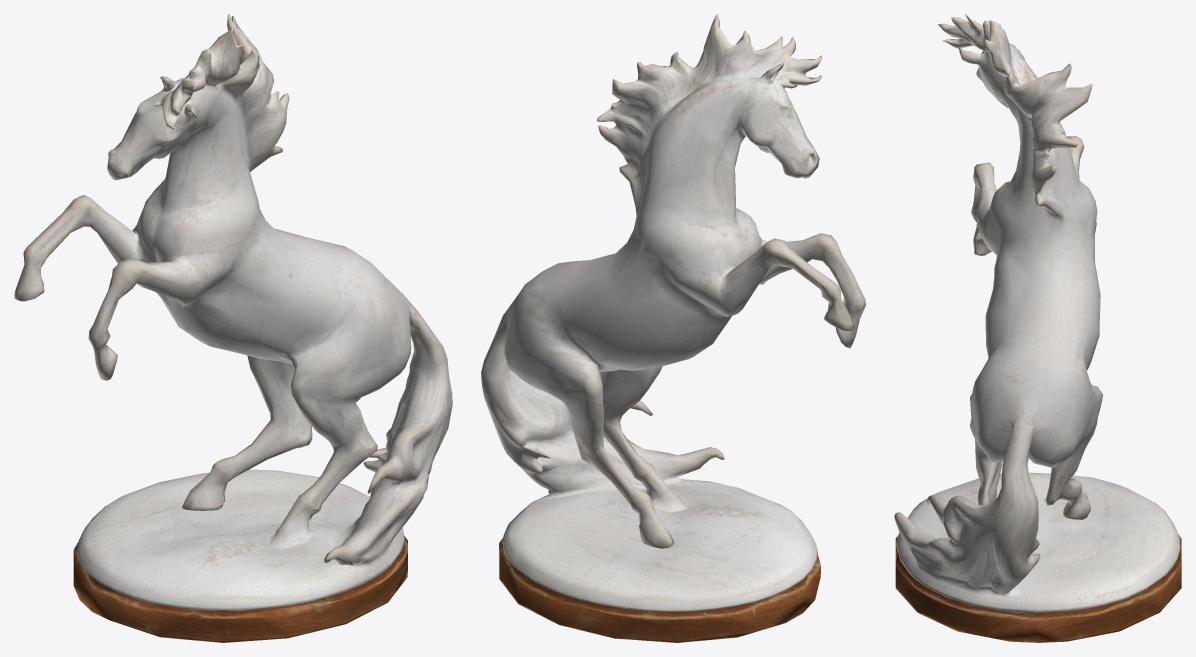
Rendered from horse_statue_01_lod.gltf.
3 renders of one model, left to right at view 1: azimuth 30°, elevation 25°; view 2: azimuth 150°, elevation 25°; view 3: azimuth 270°, elevation 25°, orthographic. The views are drawn at different scales.
Parts seen in each view (by area): view 1: horse_statue_01; view 2: horse_statue_01; view 3: horse_statue_01.
Part boxes in pixels (left/top/right/bottom): horse_statue_01: left=14, top=14, right=452, bottom=642; horse_statue_01: left=481, top=14, right=865, bottom=642; horse_statue_01: left=894, top=14, right=1181, bottom=642.
Size of the model in its own units: 0.163 by 0.22 by 0.1062.
2 materials, 2 textured.
